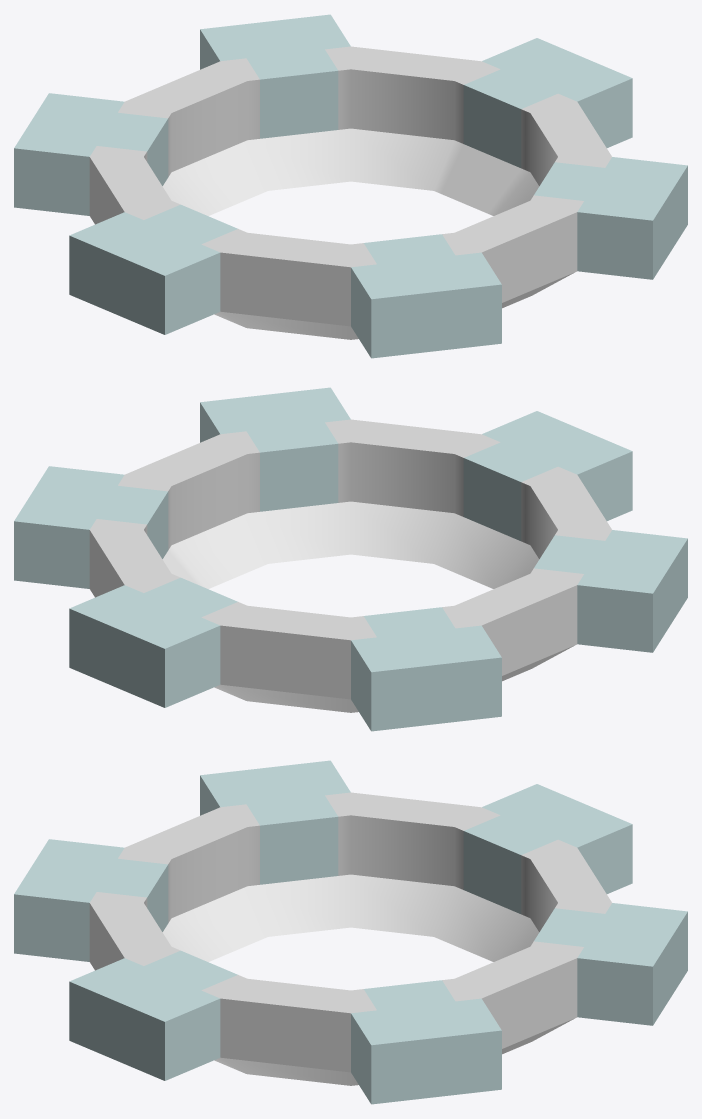
File: glass_gear.fbx
3 views of the same model, one above another, from view 1: azimuth 30°, elevation 25°; view 2: azimuth 150°, elevation 25°; view 3: azimuth 270°, elevation 25° (orthographic).
Visible parts, largest first — view 1: Cylinder.059, Cylinder.056; view 2: Cylinder.059, Cylinder.056; view 3: Cylinder.059, Cylinder.056.
Part boxes in pixels (<box>): Cylinder.059: <box>14,14,687,358</box>; Cylinder.056: <box>89,46,611,339</box>; Cylinder.059: <box>14,387,687,731</box>; Cylinder.056: <box>89,419,611,712</box>; Cylinder.059: <box>14,760,687,1104</box>; Cylinder.056: <box>89,792,611,1085</box>.
Size of the model in its own units: 516 by 80 by 516.
